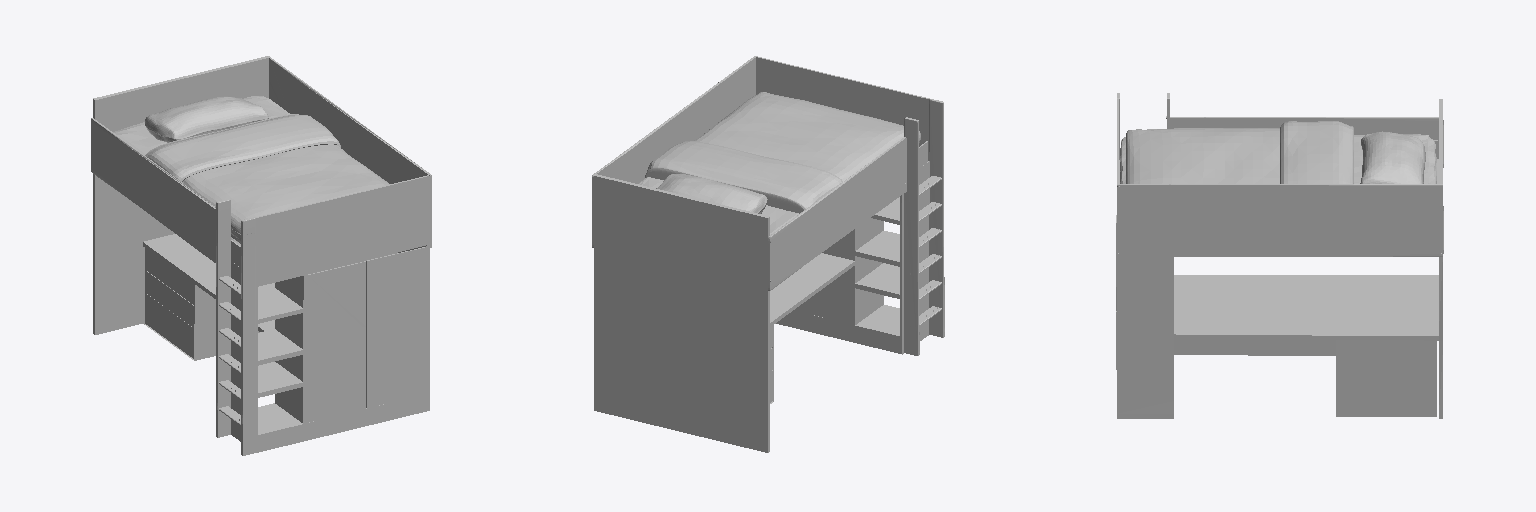
Rendered from Beliche_com_mesa.obj.
3 renders of one model, left to right at view 1: azimuth 30°, elevation 25°; view 2: azimuth 150°, elevation 25°; view 3: azimuth 270°, elevation 25°, orthographic.
Parts seen in each view (by area): view 1: BunkOBJ:Mesh; view 2: BunkOBJ:Mesh; view 3: BunkOBJ:Mesh.
Part boxes in pixels (x1,y1,x2,y2): BunkOBJ:Mesh: (91,56,431,455); BunkOBJ:Mesh: (592,56,944,452); BunkOBJ:Mesh: (1116,93,1443,418).
Size of the model in its own units: 3.85 by 4.55 by 5.74.